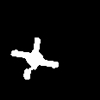single_crochet: (11, 38, 57, 78)
